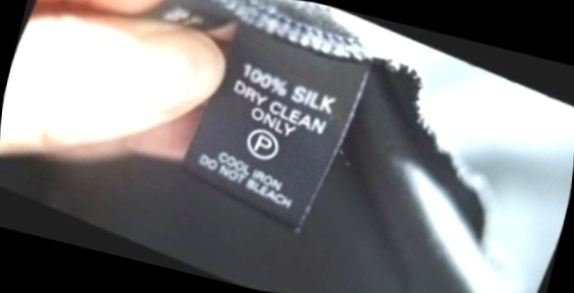dry_clean_any_solvent_except_trichloroethylene: (234, 115, 295, 174)
